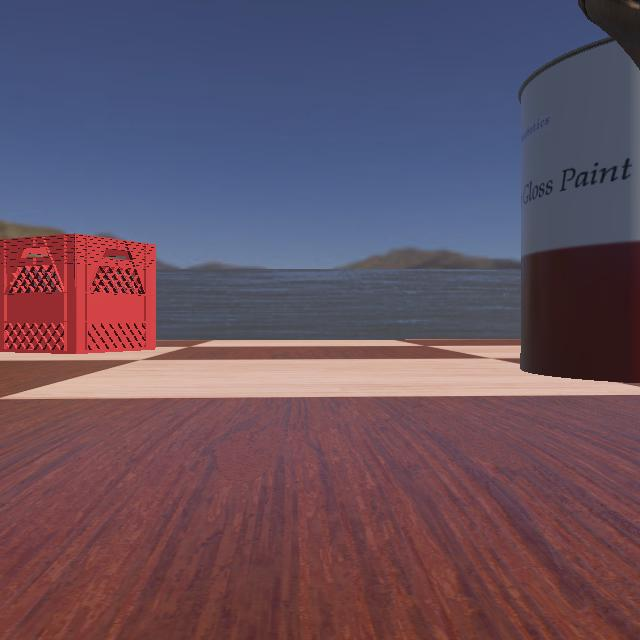cat: (534, 0, 640, 276), (534, 0, 640, 276), (534, 0, 640, 276)
paint-bucket: (479, 3, 639, 391), (479, 3, 639, 391)
plastic-crate: (0, 232, 166, 354)
